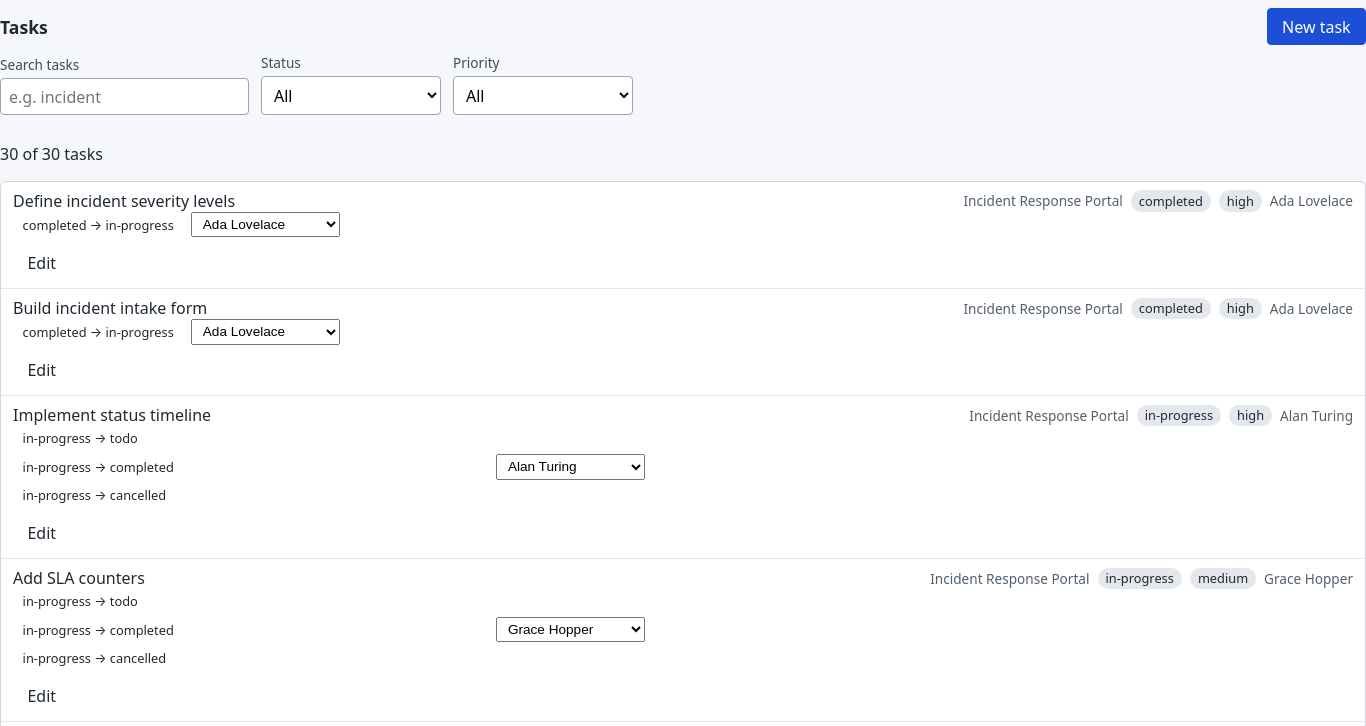
Scenario: TasksPage — list (TSK-LIST) › combines status, priority and title filters with AND (TSK-LIST-2)
Select "Completed" in the dropdown labelled "Status": (351, 96) x1=261 y1=76 x2=441 y2=115
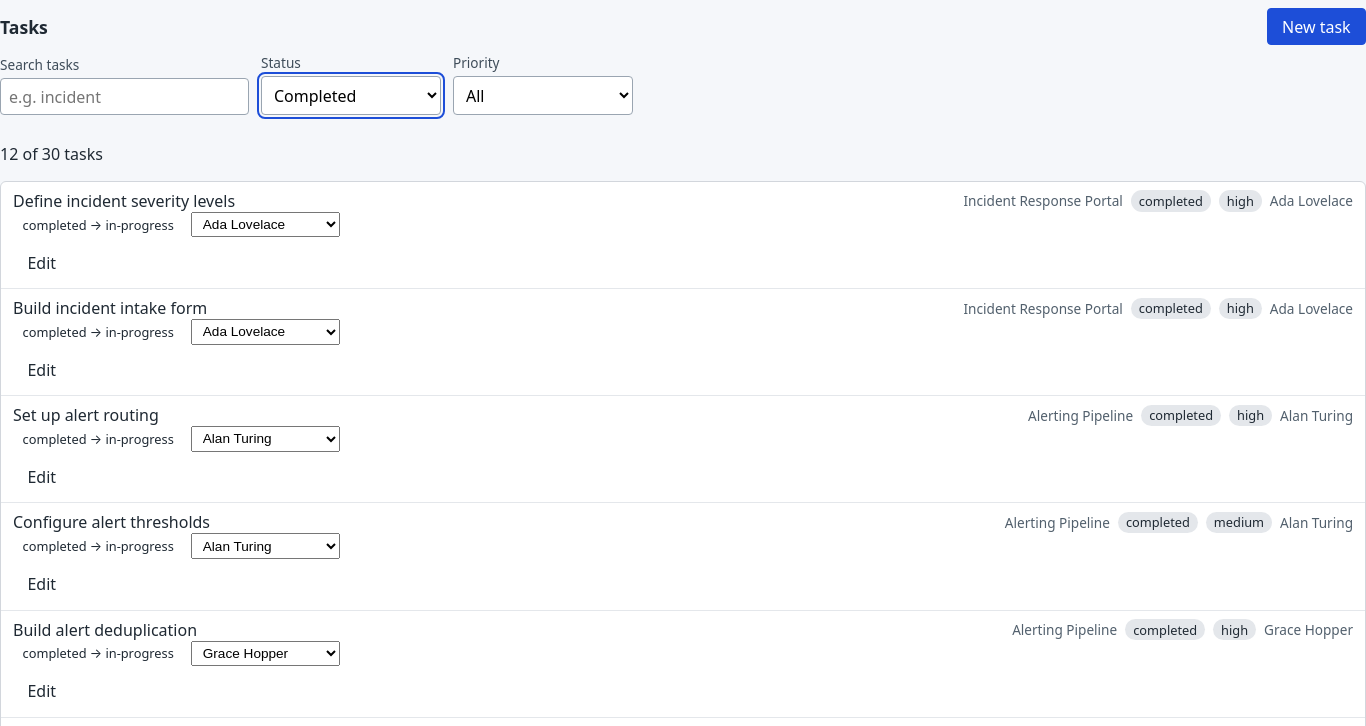
Expected: the text "12 of 30 tasks" is shown, x1=0 y1=143 x2=103 y2=165
Select "High" in the dropdown labelled "Priority": (543, 96) x1=453 y1=76 x2=633 y2=115
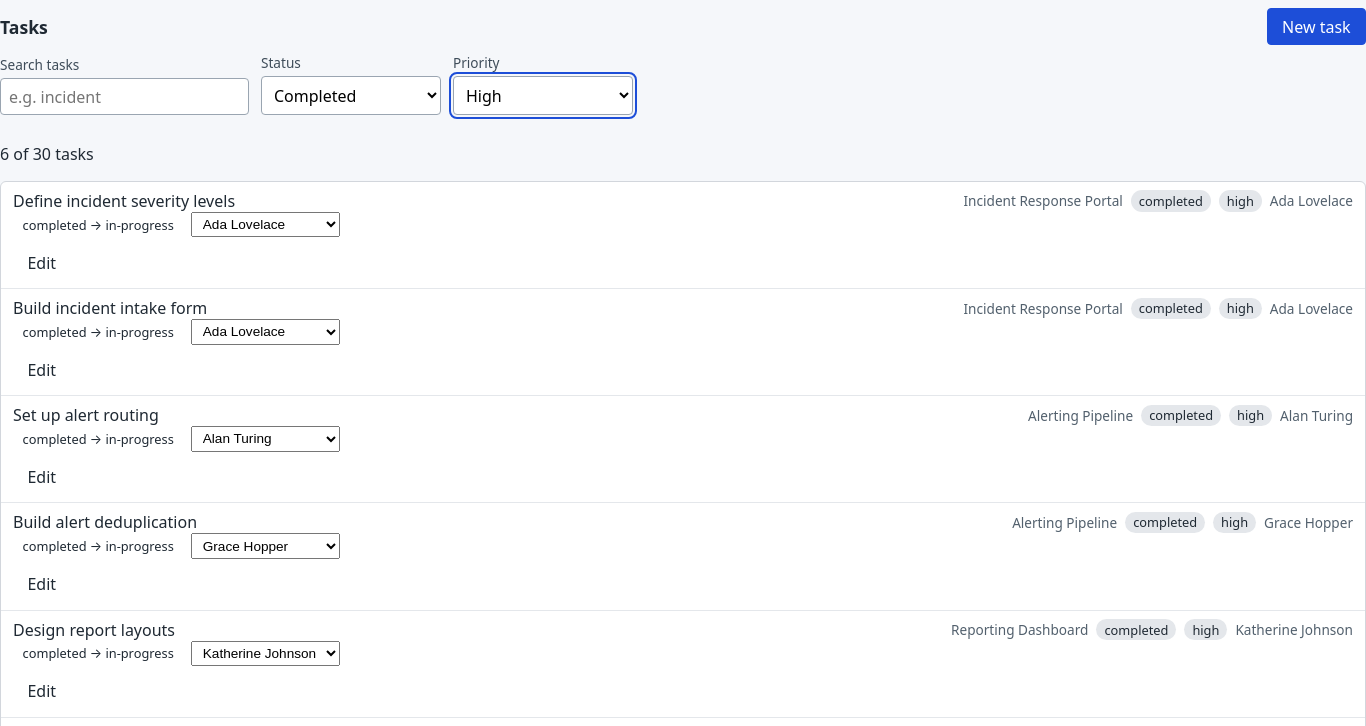
Expected: the text "6 of 30 tasks" is shown, x1=0 y1=143 x2=94 y2=165
In the search field labelled "Search tasks": (124, 97) x1=0 y1=78 x2=249 y2=115, type "alert"
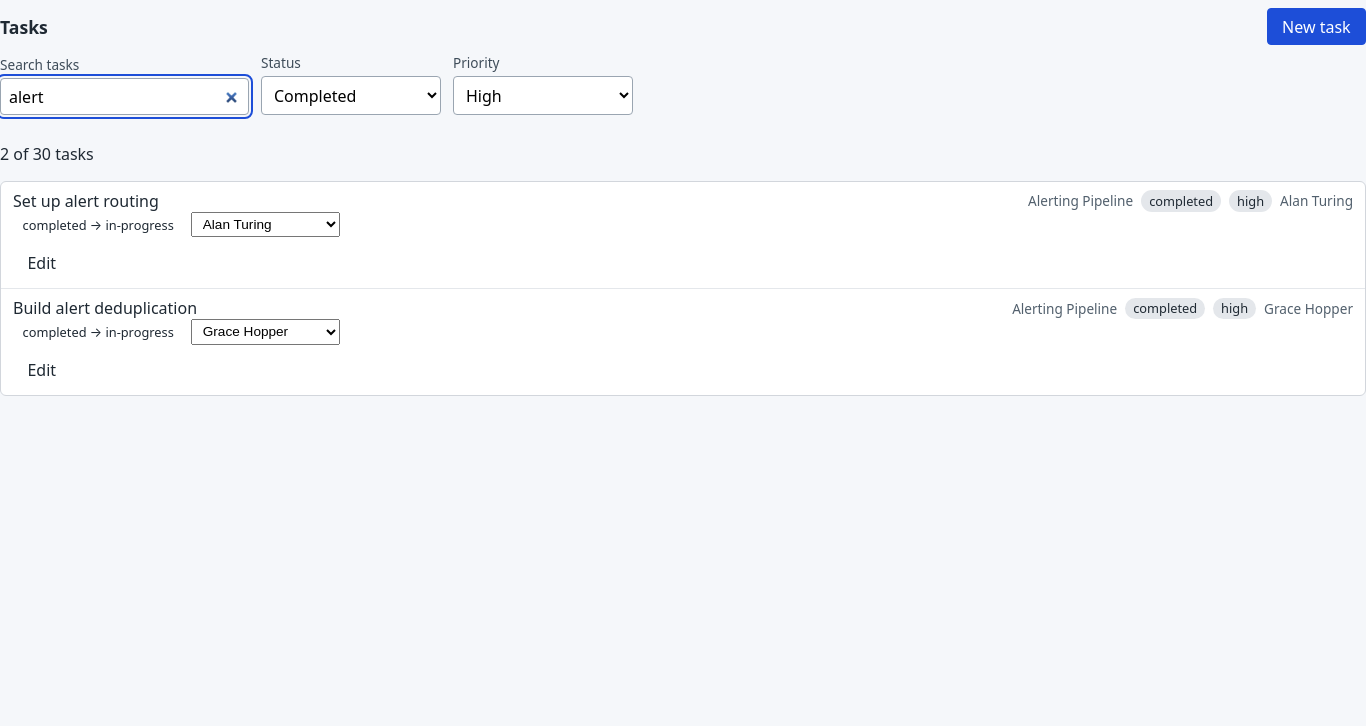
Expected: the text "Build alert deduplication" is shown, x1=13 y1=297 x2=197 y2=319
Expected: the text "2 of 30 tasks" is shown, x1=0 y1=143 x2=94 y2=165
